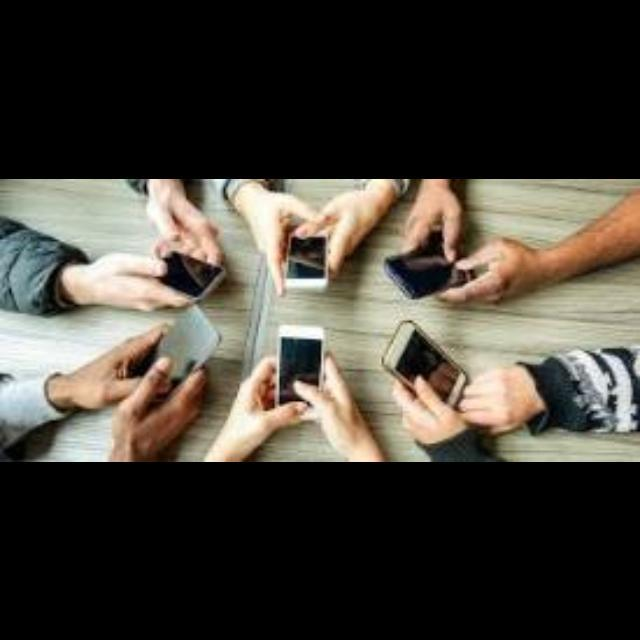Phone: (383, 321, 469, 414), (142, 302, 222, 390), (384, 245, 478, 298), (277, 324, 323, 418), (157, 252, 229, 300), (285, 228, 329, 290)
